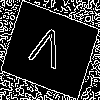V: (25, 24, 67, 78)
